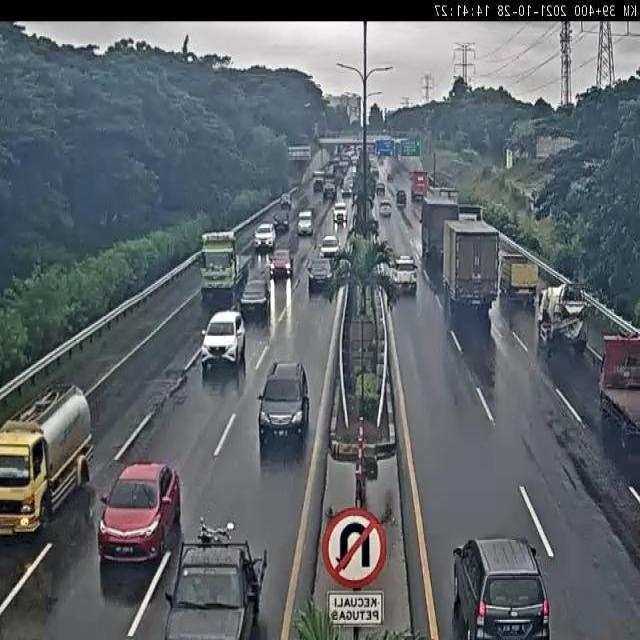Car: (453, 536, 550, 640), (98, 461, 181, 566), (256, 362, 310, 449), (202, 309, 246, 372), (389, 253, 419, 294), (308, 256, 333, 292), (269, 249, 294, 278), (318, 236, 342, 261), (253, 222, 274, 250), (272, 210, 290, 231), (332, 202, 348, 223), (378, 201, 392, 218)
Truck: (0, 381, 95, 537), (162, 517, 267, 640), (441, 218, 501, 318), (598, 329, 640, 440), (537, 280, 588, 358), (198, 232, 253, 300), (419, 197, 460, 262), (500, 254, 539, 306), (410, 168, 430, 202), (322, 178, 337, 204), (312, 170, 325, 193)
